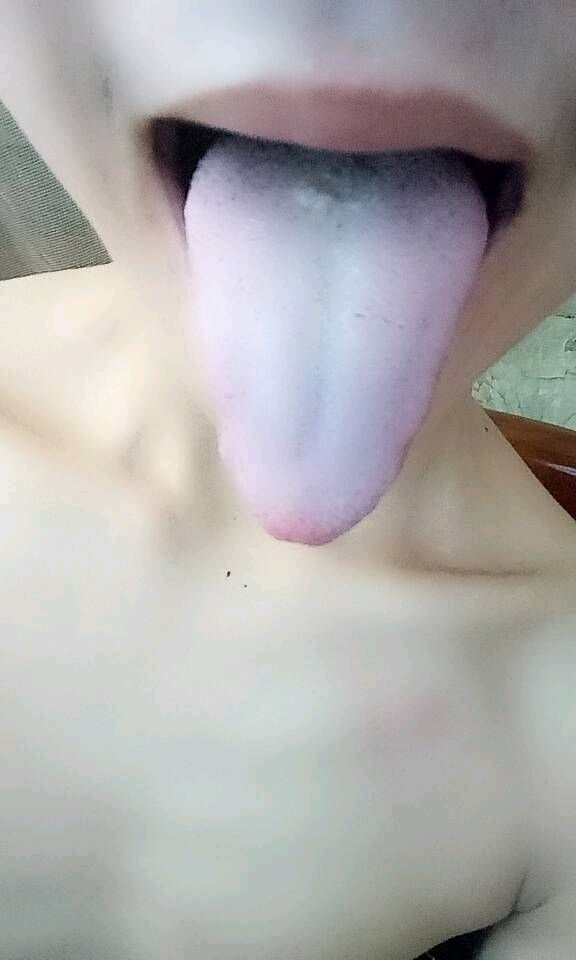baitaishe: (184, 138, 489, 546)
